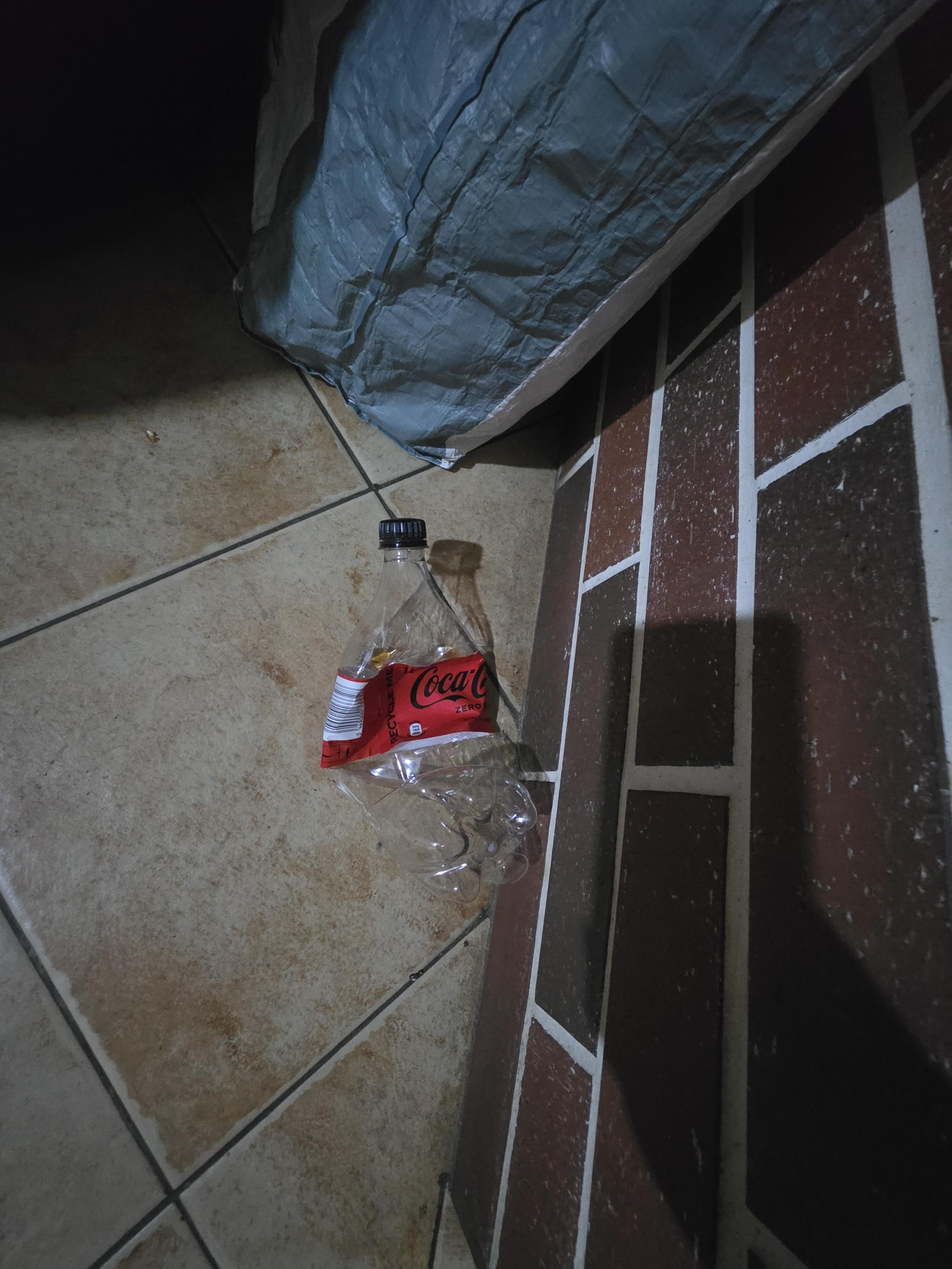bottle: (319, 518, 541, 908)
